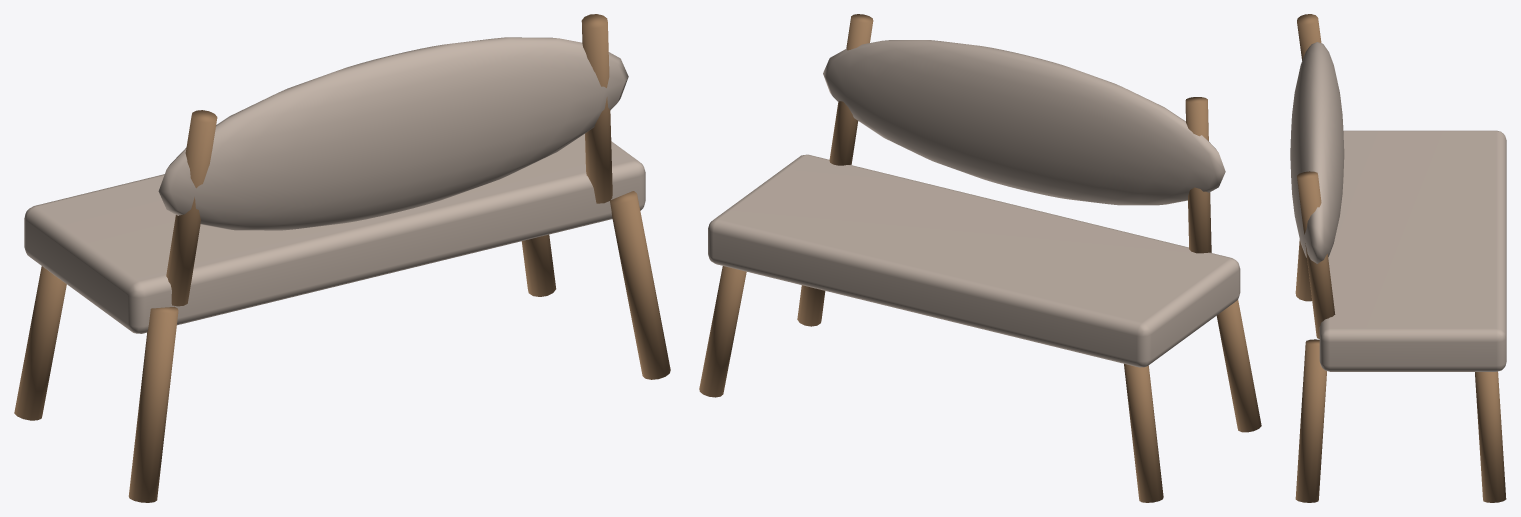
The model's file is secretaria-traco.glb.
3 renders of one model, left to right at view 1: azimuth 30°, elevation 25°; view 2: azimuth 150°, elevation 25°; view 3: azimuth 270°, elevation 25°, orthographic. The views are drawn at different scales.
Parts seen in each view (by area): view 1: Encosto envolvente, Assento moldado, Pé de madeira, Pé de madeira.002, Pé de madeira.001, Montante do encosto, Montante do encosto.001, Pé de madeira.003; view 2: Assento moldado, Encosto envolvente, Pé de madeira.001, Pé de madeira.003, Pé de madeira, Montante do encosto, Montante do encosto.001, Pé de madeira.002; view 3: Assento moldado, Encosto envolvente, Pé de madeira.002, Pé de madeira.003, Montante do encosto.001, Montante do encosto, Pé de madeira.
Part boxes in pixels (left/top/right/bottom): Encosto envolvente: left=158, top=37, right=628, bottom=230; Assento moldado: left=24, top=134, right=645, bottom=333; Pé de madeira: left=128, top=306, right=178, bottom=502; Pé de madeira.002: left=610, top=191, right=670, bottom=379; Pé de madeira.001: left=14, top=266, right=66, bottom=420; Montante do encosto: left=166, top=110, right=217, bottom=306; Montante do encosto.001: left=581, top=14, right=612, bottom=203; Pé de madeira.003: left=521, top=234, right=556, bottom=296; Assento moldado: left=708, top=154, right=1240, bottom=367; Encosto envolvente: left=823, top=40, right=1225, bottom=205; Pé de madeira.001: left=1124, top=364, right=1163, bottom=502; Pé de madeira.003: left=699, top=266, right=746, bottom=397; Pé de madeira: left=1216, top=299, right=1261, bottom=432; Montante do encosto: left=1185, top=97, right=1211, bottom=253; Montante do encosto.001: left=829, top=14, right=873, bottom=165; Pé de madeira.002: left=797, top=285, right=825, bottom=326; Assento moldado: left=1319, top=130, right=1506, bottom=371; Encosto envolvente: left=1290, top=42, right=1344, bottom=263; Pé de madeira.002: left=1295, top=339, right=1326, bottom=502; Pé de madeira.003: left=1475, top=371, right=1506, bottom=502; Montante do encosto.001: left=1297, top=171, right=1335, bottom=338; Montante do encosto: left=1297, top=14, right=1321, bottom=60; Pé de madeira: left=1295, top=239, right=1311, bottom=301.
Size of the model in its own units: 1.03 by 0.6916 by 0.44.
